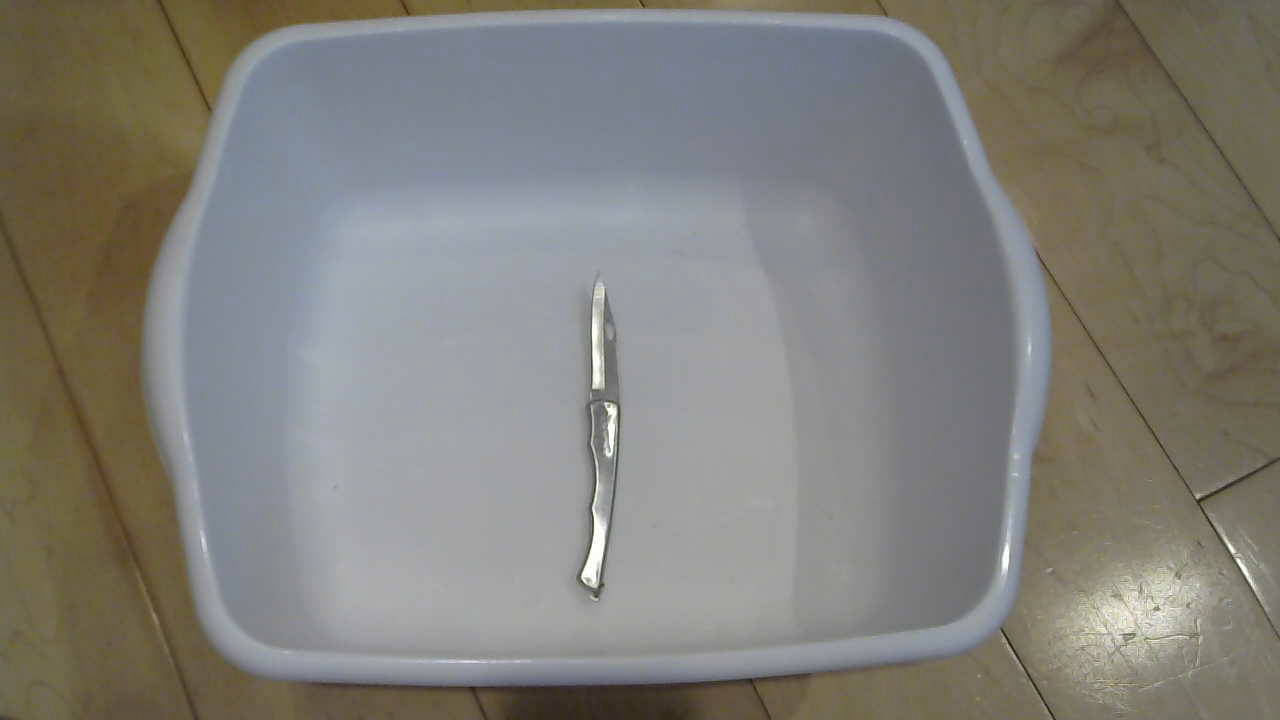knife: (571, 275, 647, 608)
